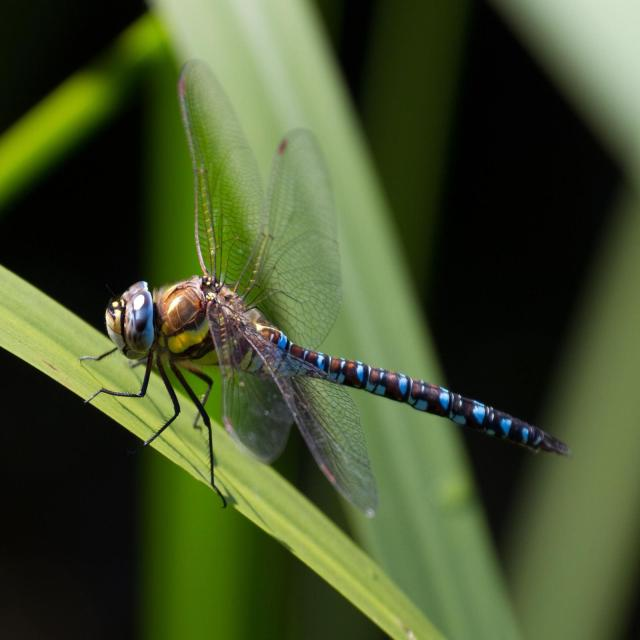dragonfly: (79, 62, 568, 517)
